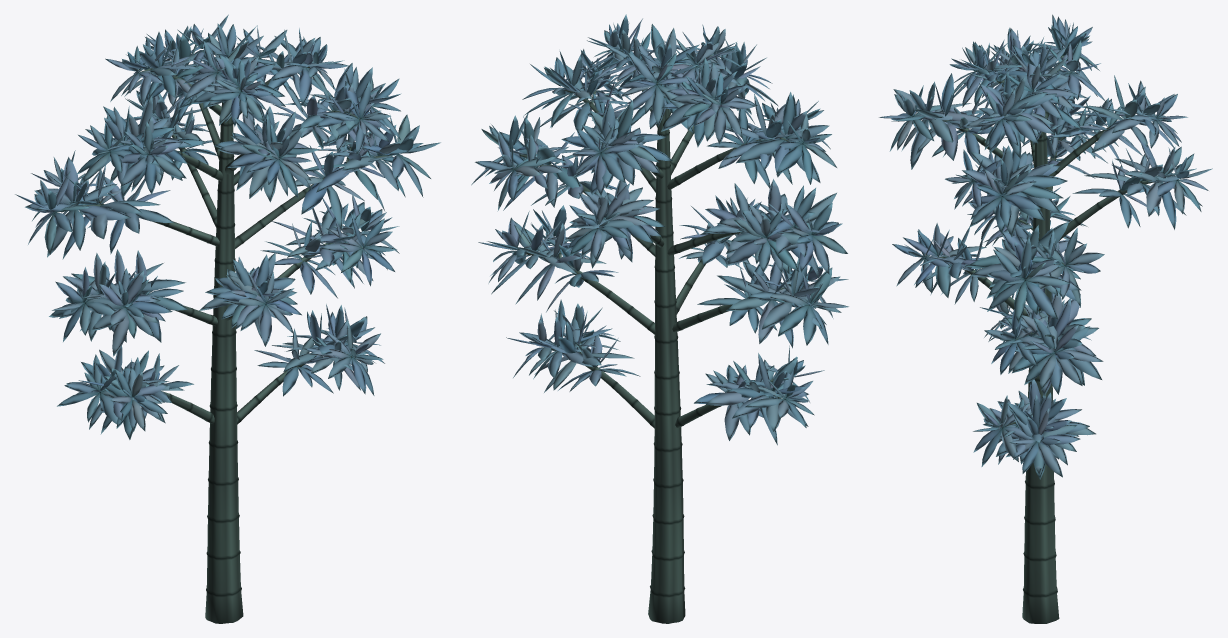
File: blue_alien_tree.glb
3 views of the same model, side by side, from view 1: azimuth 30°, elevation 25°; view 2: azimuth 150°, elevation 25°; view 3: azimuth 270°, elevation 25° (orthographic). The views are drawn at different scales.
Parts seen in each view (by area): view 1: Blue_Alien_Tree; view 2: Blue_Alien_Tree; view 3: Blue_Alien_Tree.
Boxes of the visible parts, <box> form: Blue_Alien_Tree: <box>15,14,440,623</box>; Blue_Alien_Tree: <box>471,14,848,623</box>; Blue_Alien_Tree: <box>879,14,1212,623</box>.
Bounding box in the file's own units: 3.1 × 4.45 × 2.34.
